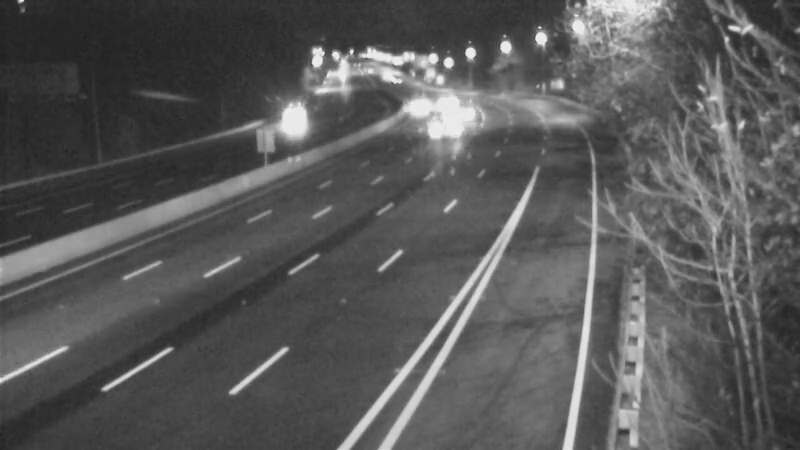vehicle: (370, 55, 420, 105), (421, 77, 471, 127), (383, 83, 433, 133), (441, 82, 491, 132), (418, 101, 468, 151), (262, 93, 312, 143)
